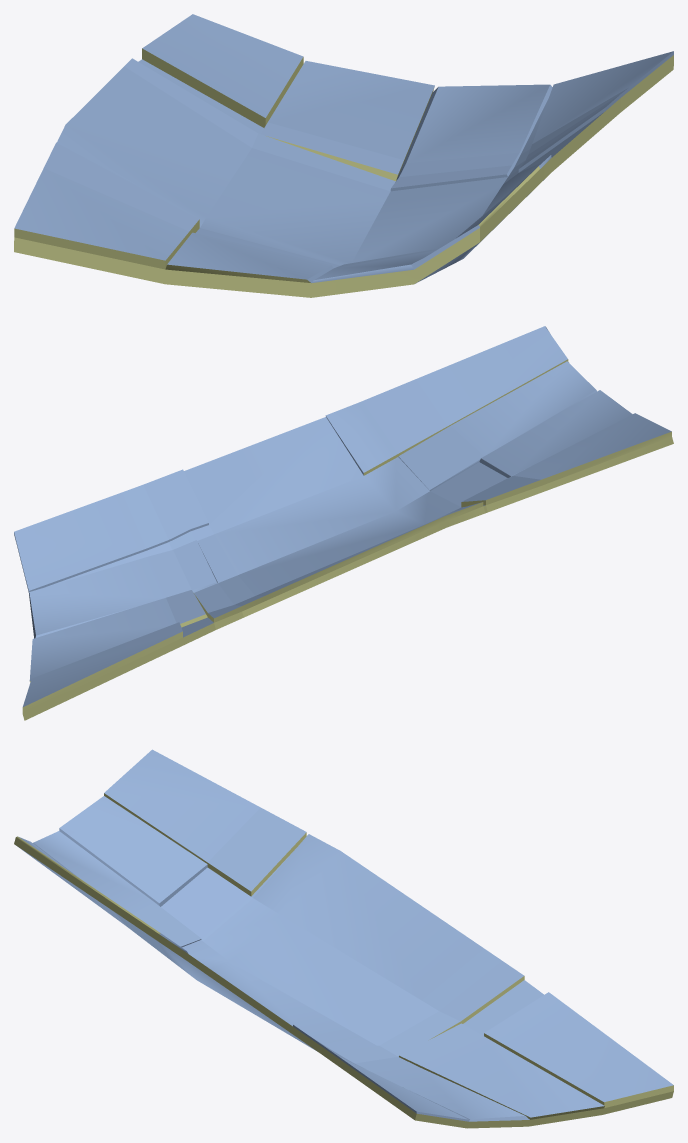
Rendered from banderafixeduv.fbx.
3 renders of one model, top to bottom at view 1: azimuth 30°, elevation 25°; view 2: azimuth 150°, elevation 25°; view 3: azimuth 270°, elevation 25°, orthographic. The views are drawn at different scales.
Visible parts, largest first — view 1: Sail2_low; view 2: Sail2_low; view 3: Sail2_low.
Part boxes in pixels (x1,y1,x2,y2): Sail2_low: (14, 14, 673, 297); Sail2_low: (14, 326, 673, 720); Sail2_low: (14, 749, 673, 1128).
Size of the model in its own units: 656 by 231 by 754.
